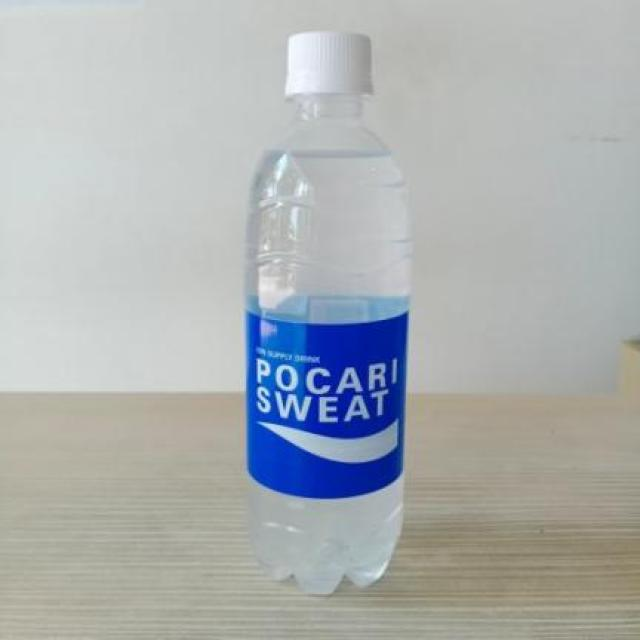high: (244, 31, 410, 593)
